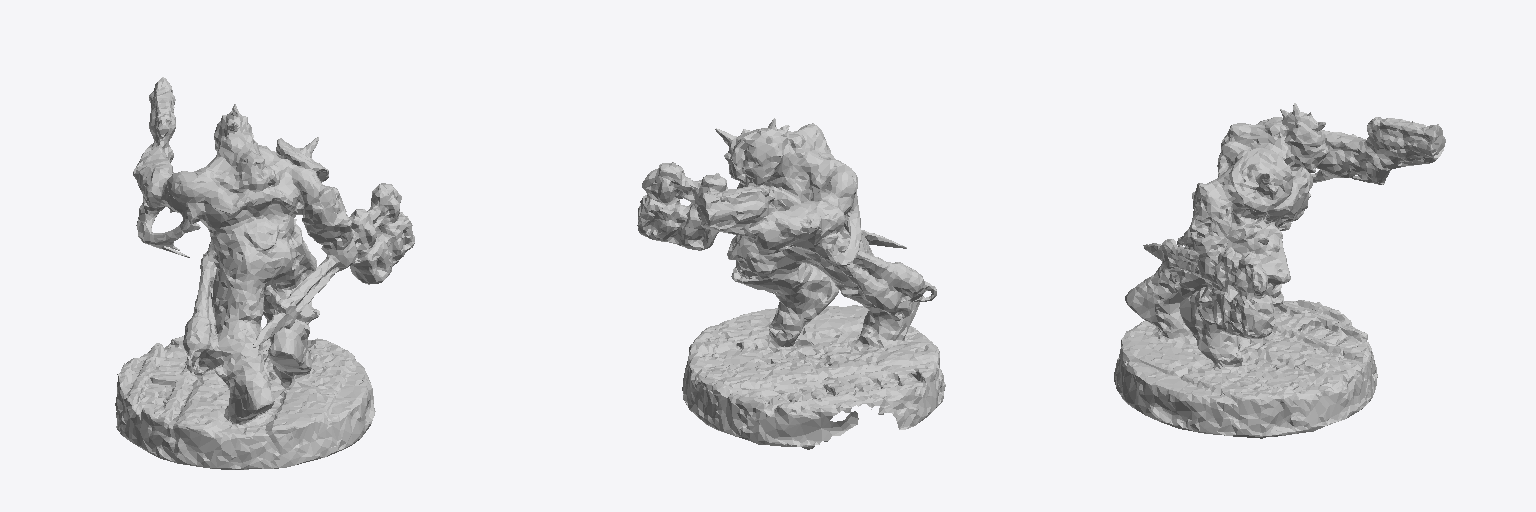
Rendered from Goliaths_9.obj.
3 views of the same model, side by side, from view 1: azimuth 30°, elevation 25°; view 2: azimuth 150°, elevation 25°; view 3: azimuth 270°, elevation 25° (orthographic).
Visible parts, largest first — view 1: Goliaths_9_zephyr; view 2: Goliaths_9_zephyr; view 3: Goliaths_9_zephyr.
Part boxes in pixels (left/top/right/bottom): Goliaths_9_zephyr: left=115, top=77, right=414, bottom=469; Goliaths_9_zephyr: left=637, top=118, right=945, bottom=449; Goliaths_9_zephyr: left=1114, top=103, right=1445, bottom=438.
Bounding box in the file's own units: 1.49 × 1.46 × 1.5.